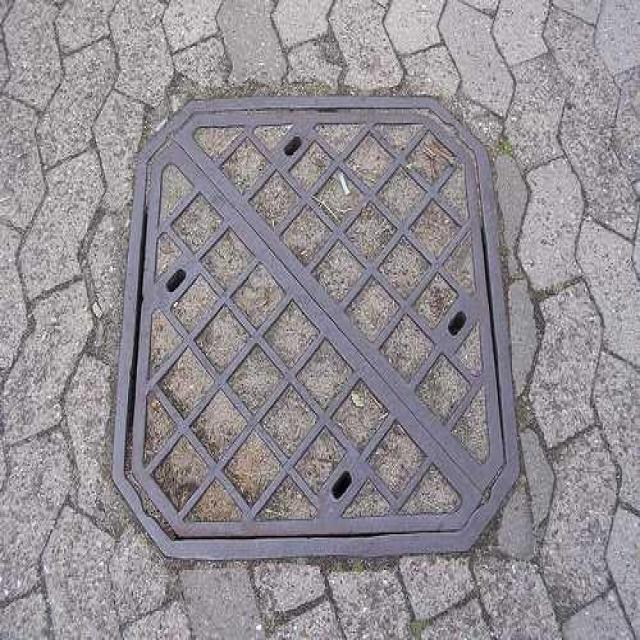manhole: (111, 94, 522, 565)
